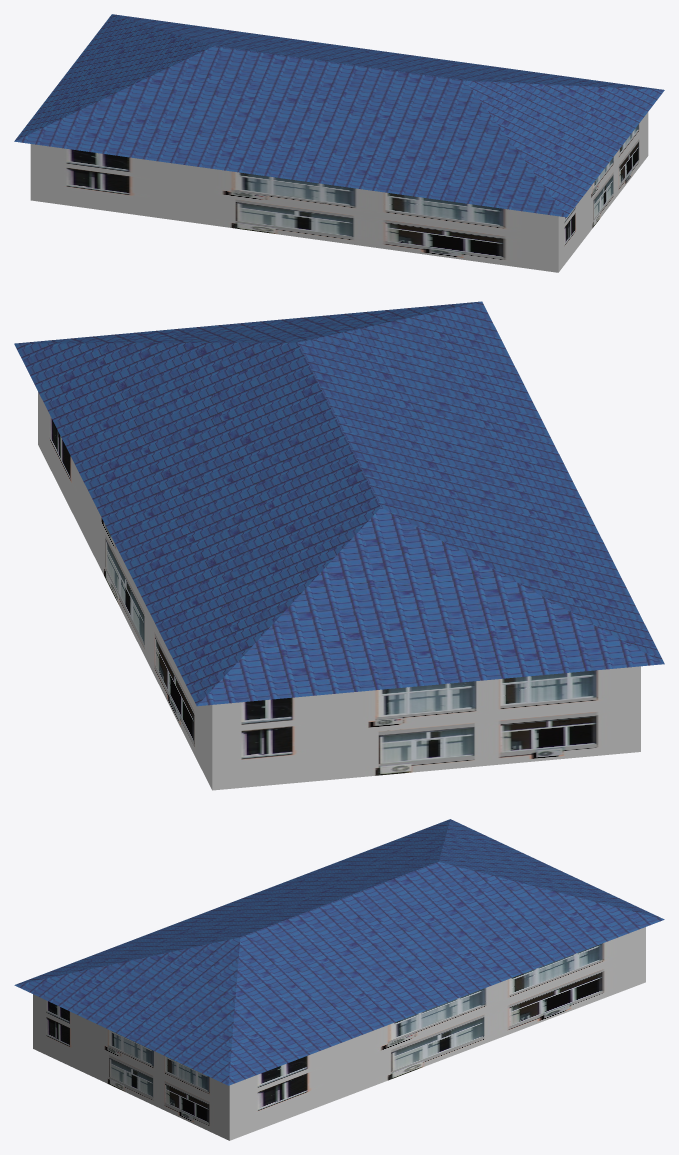
The picture shows the model from 3 angles, top to bottom: view 1: azimuth 30°, elevation 25°; view 2: azimuth 150°, elevation 25°; view 3: azimuth 270°, elevation 25°; orthographic projection. The views are drawn at different scales.
Parts seen in each view (by area): view 1: CityEngineMaterial_10_m, CityEngineMaterial_9_m; view 2: CityEngineMaterial_10_m, CityEngineMaterial_9_m; view 3: CityEngineMaterial_10_m, CityEngineMaterial_9_m.
Boxes of the visible parts, bbox=[...] form: CityEngineMaterial_10_m: bbox=[14, 14, 664, 217]; CityEngineMaterial_9_m: bbox=[30, 112, 648, 272]; CityEngineMaterial_10_m: bbox=[14, 301, 664, 706]; CityEngineMaterial_9_m: bbox=[38, 392, 640, 790]; CityEngineMaterial_10_m: bbox=[14, 819, 664, 1085]; CityEngineMaterial_9_m: bbox=[33, 927, 645, 1140].
Bounding box in the file's own units: 44.05 × 8.93 × 45.42.
